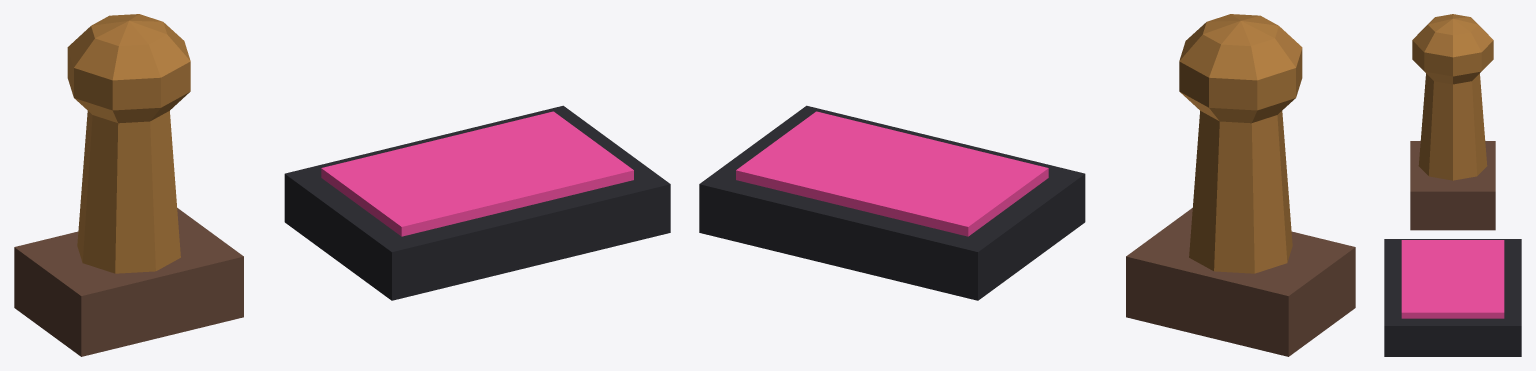
File: gym_fake_stamp.glb
3 views of the same model, side by side, from view 1: azimuth 30°, elevation 25°; view 2: azimuth 150°, elevation 25°; view 3: azimuth 270°, elevation 25° (orthographic). The views are drawn at different scales.
Parts seen in each view (by area): view 1: pad_stamp_pad, handle_stamp_wood (×2), pad_stamp_ink, block_stamp_rubber; view 2: pad_stamp_pad, handle_stamp_wood (×2), pad_stamp_ink, block_stamp_rubber; view 3: handle_stamp_wood (×2), pad_stamp_pad, pad_stamp_ink, block_stamp_rubber.
Boxes of the visible parts, box(x1,y1,x2,y2) form: pad_stamp_pad: box(284, 105, 670, 300); handle_stamp_wood (×2): box(67, 14, 190, 273); pad_stamp_ink: box(321, 111, 633, 236); block_stamp_rubber: box(14, 208, 243, 356); pad_stamp_pad: box(699, 105, 1085, 300); handle_stamp_wood (×2): box(1179, 14, 1302, 273); pad_stamp_ink: box(736, 111, 1048, 236); block_stamp_rubber: box(1126, 208, 1355, 356); handle_stamp_wood (×2): box(1412, 14, 1493, 180); pad_stamp_pad: box(1384, 239, 1521, 356); pad_stamp_ink: box(1401, 240, 1504, 318); block_stamp_rubber: box(1410, 141, 1495, 230).
Bounding box in the file's own units: 0.245 × 0.12 × 0.08.
